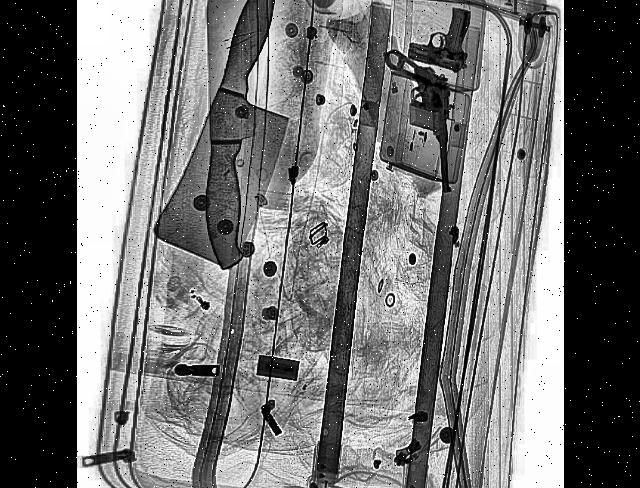Gun: (381, 13, 481, 204), (404, 0, 473, 83)
Knife: (143, 0, 340, 298)
